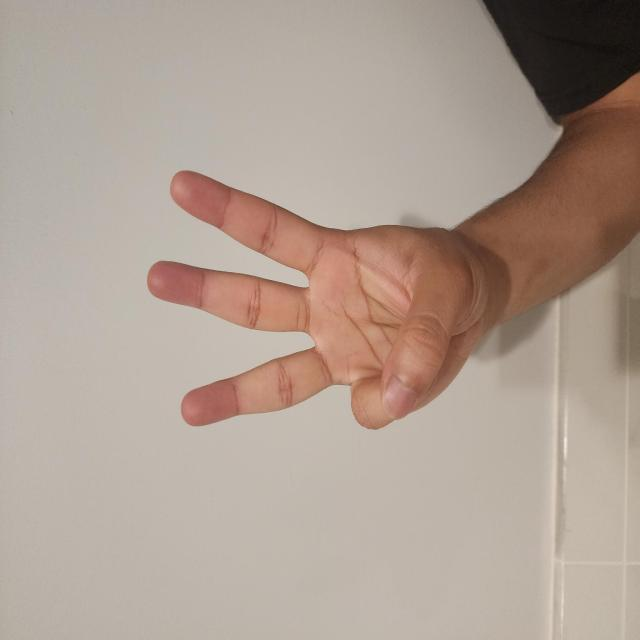W: (150, 194, 354, 640)
